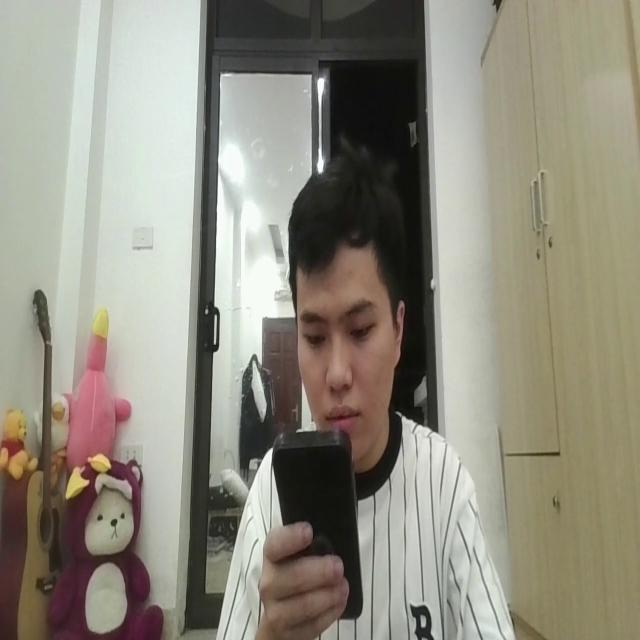phone: (273, 426, 365, 618)
student: (213, 137, 514, 640)
